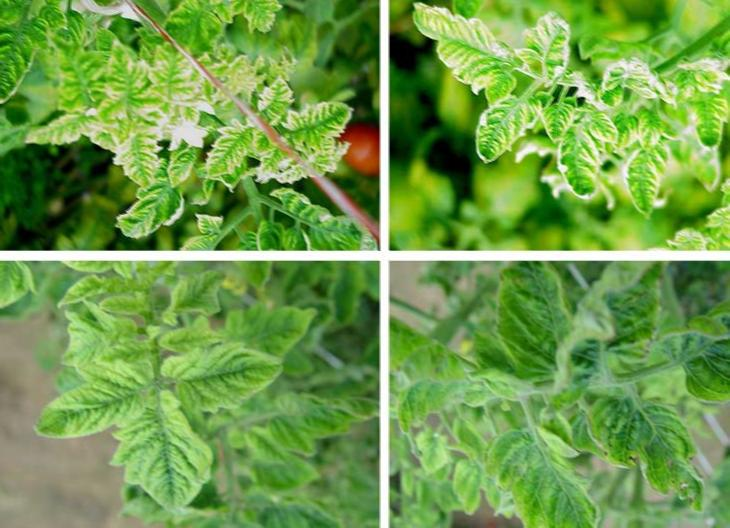Tomato leaf yellow virus: (581, 383, 708, 500), (120, 386, 218, 516), (473, 267, 574, 390), (407, 1, 537, 96), (632, 284, 730, 407), (494, 432, 604, 528), (27, 374, 147, 445), (172, 357, 303, 413), (468, 82, 545, 166), (503, 0, 577, 87), (557, 105, 619, 205), (0, 3, 51, 111), (98, 45, 156, 116), (625, 140, 667, 230), (285, 94, 354, 147), (171, 0, 226, 59), (201, 124, 253, 179), (112, 128, 157, 186), (690, 82, 724, 157), (537, 97, 585, 141), (236, 0, 282, 40), (167, 140, 198, 193), (634, 108, 666, 155)
